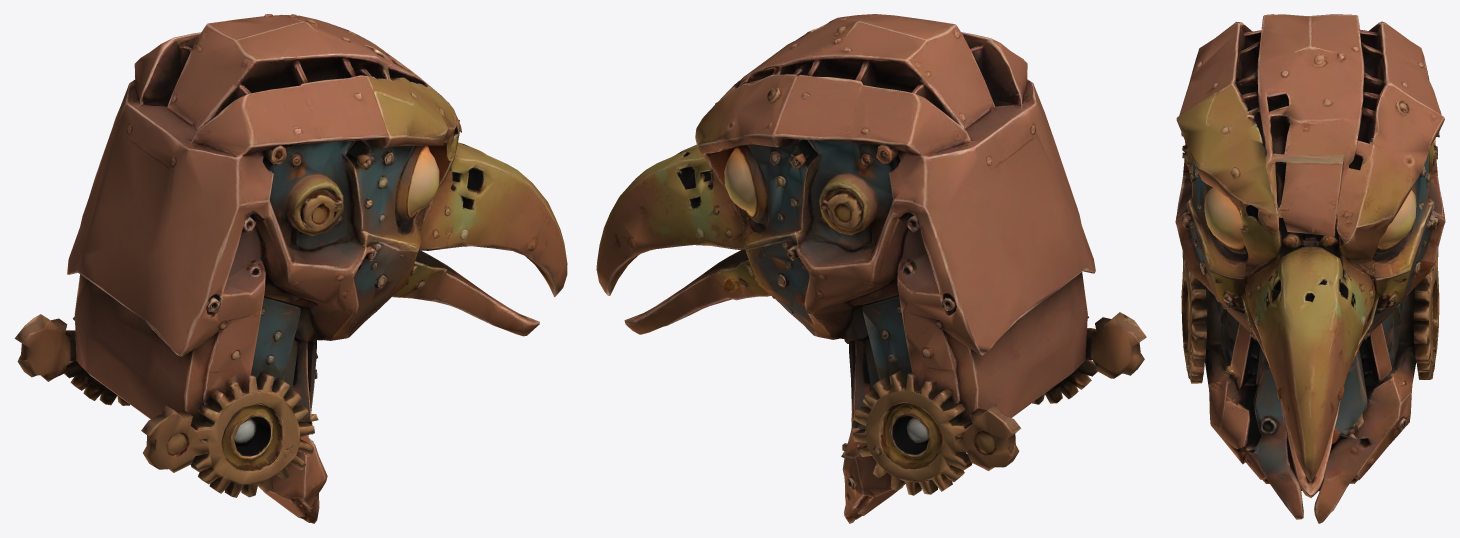
File: head.glb
The picture shows the model from 3 angles, left to right: view 1: azimuth 30°, elevation 25°; view 2: azimuth 150°, elevation 25°; view 3: azimuth 270°, elevation 25°; orthographic projection. The views are drawn at different scales.
Parts seen in each view (by area): view 1: tripo_node_e429d3fe-bdf6-45f1-941e-fefa60f06ab5; view 2: tripo_node_e429d3fe-bdf6-45f1-941e-fefa60f06ab5; view 3: tripo_node_e429d3fe-bdf6-45f1-941e-fefa60f06ab5.
Boxes of the visible parts, <box> form: tripo_node_e429d3fe-bdf6-45f1-941e-fefa60f06ab5: <box>14,14,567,523</box>; tripo_node_e429d3fe-bdf6-45f1-941e-fefa60f06ab5: <box>596,14,1146,523</box>; tripo_node_e429d3fe-bdf6-45f1-941e-fefa60f06ab5: <box>1175,14,1445,523</box>.
Size of the model in its own units: 1 by 0.9918 by 0.5101.
1 material, 1 textured.
